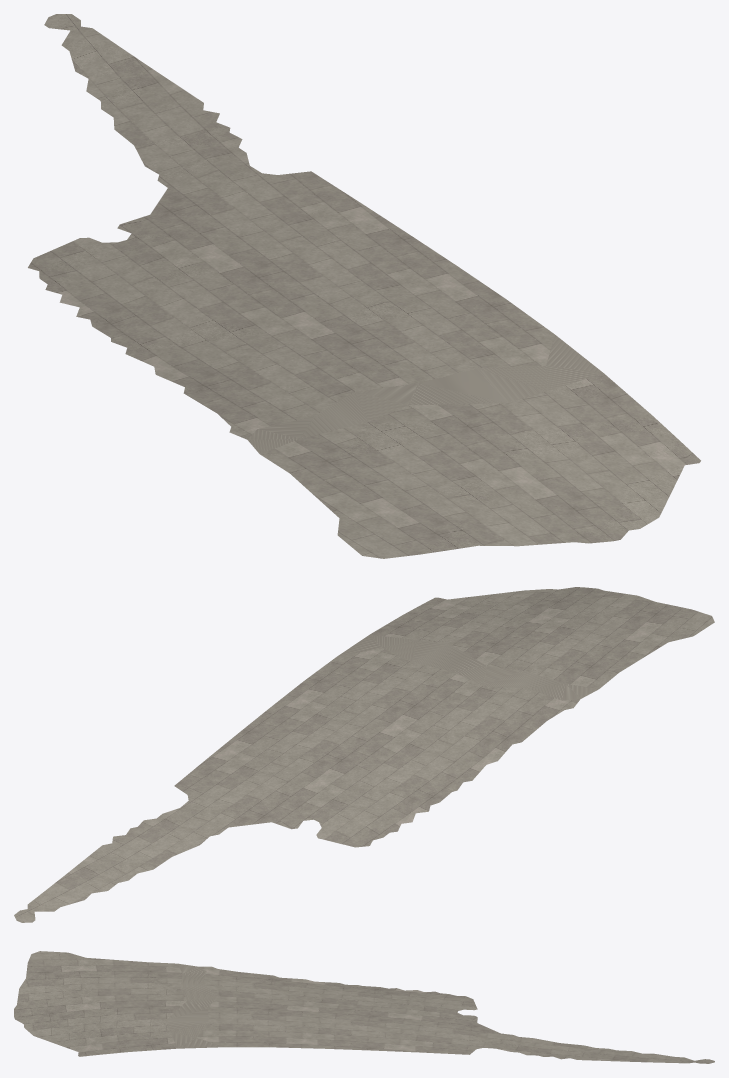
The model's file is plaza_02.glb.
The picture shows the model from 3 angles, top to bottom: view 1: azimuth 30°, elevation 25°; view 2: azimuth 150°, elevation 25°; view 3: azimuth 270°, elevation 25°; orthographic projection. The views are drawn at different scales.
Visible parts, largest first — view 1: plaza_02.surface; view 2: plaza_02.surface; view 3: plaza_02.surface.
Part boxes in pixels (left/top/right/bottom): plaza_02.surface: left=28, top=14, right=700, bottom=558; plaza_02.surface: left=14, top=587, right=714, bottom=922; plaza_02.surface: left=14, top=951, right=714, bottom=1063.
Size of the model in its own units: 9.6 by 1.11 by 30.73.
1 material, 1 textured.
